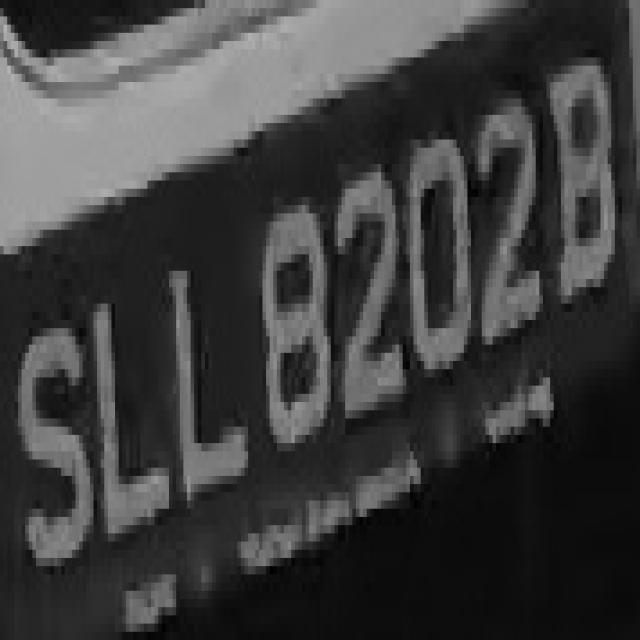0: (403, 131, 471, 394)
2: (324, 156, 414, 443), (464, 98, 557, 370)
8: (248, 180, 334, 460)
B: (543, 49, 618, 328)
L: (79, 262, 165, 574), (162, 254, 248, 534)
S: (14, 296, 97, 582)
